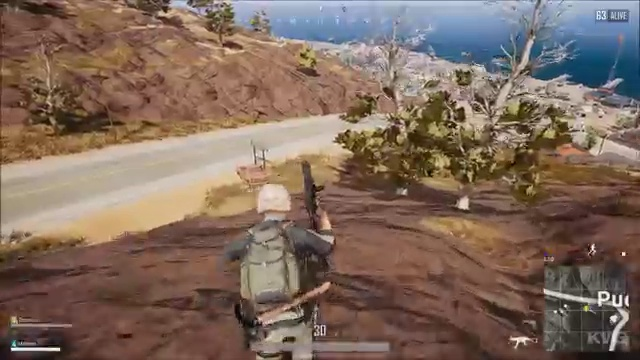Player: (204, 163, 362, 325)
